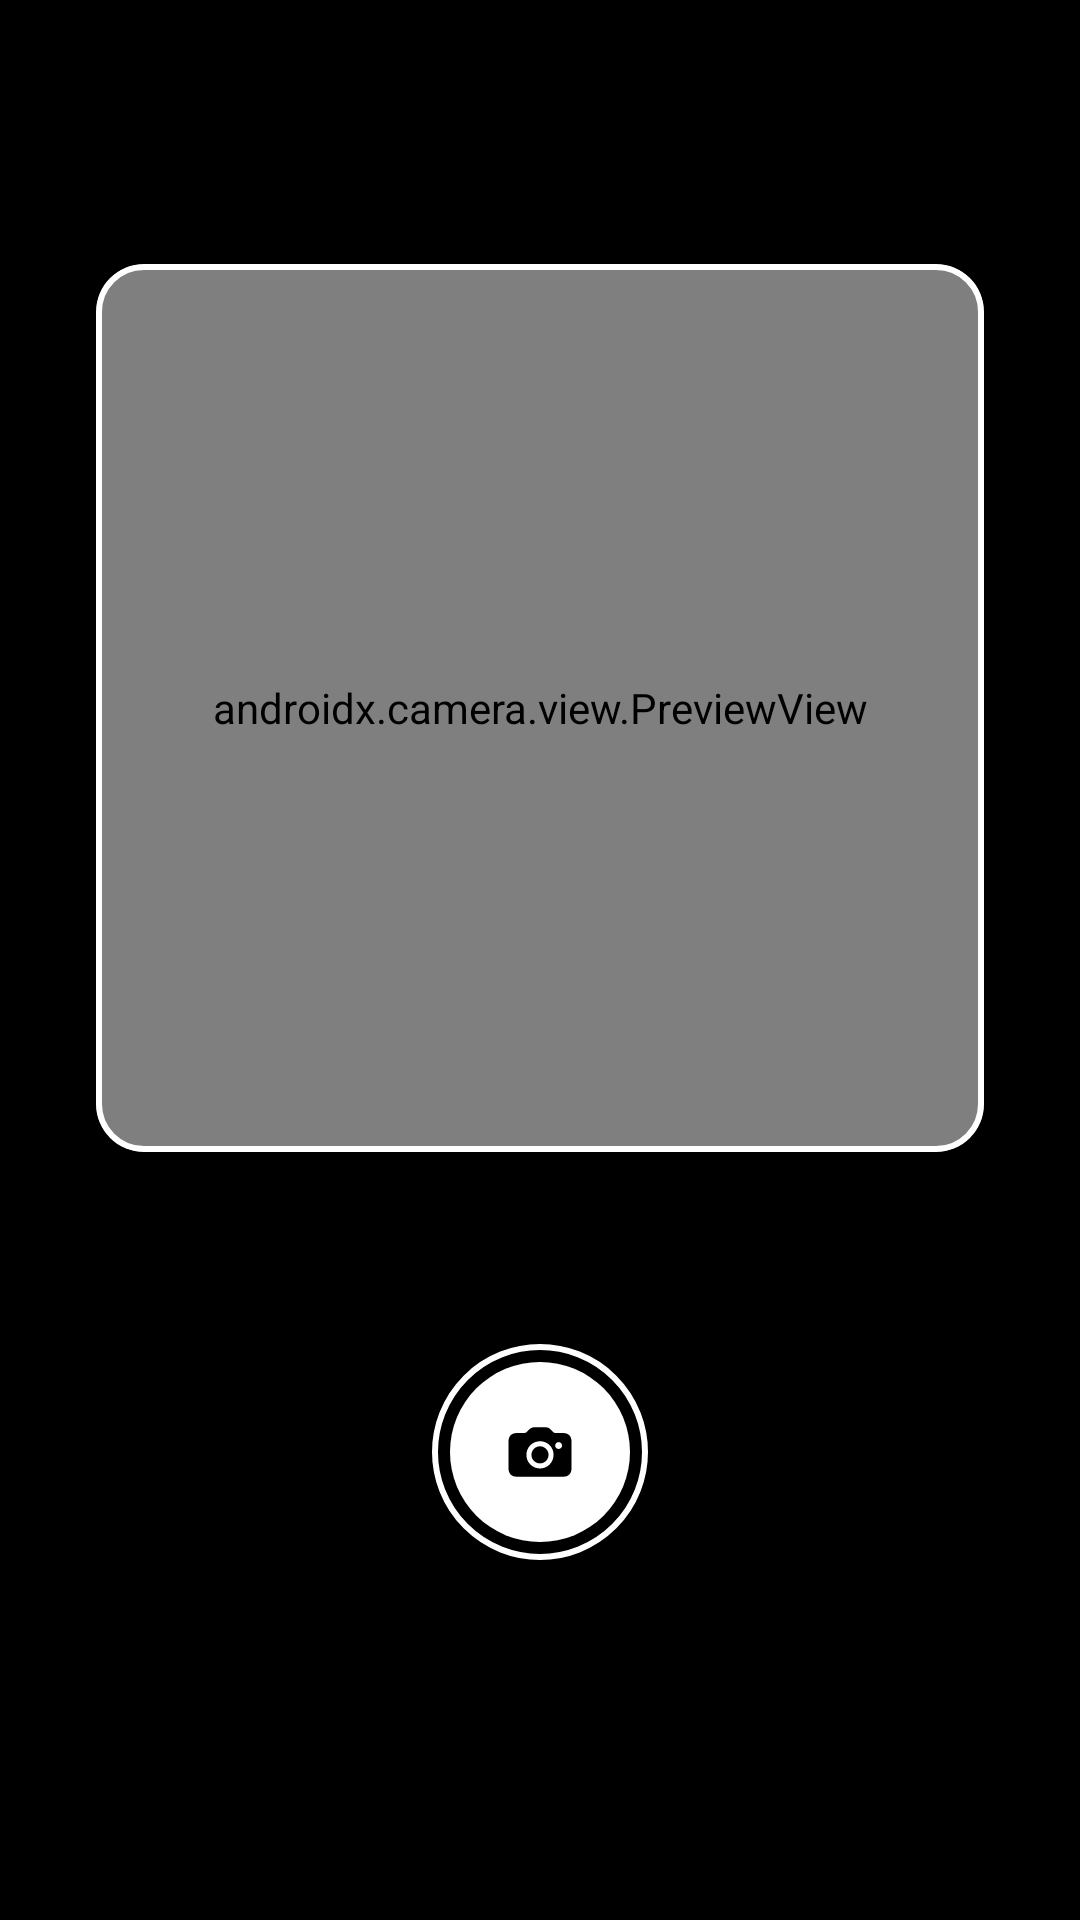

Icon click points for this 1080 × 1920 phone screenshot, format [x,y]:
camera glyph: [540,1452]
